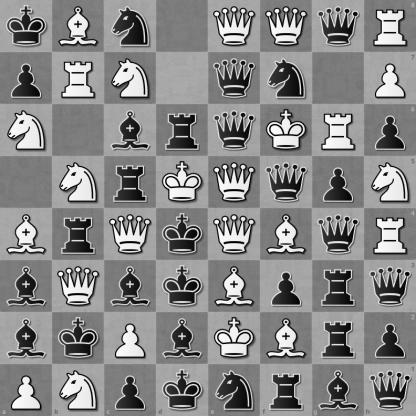B: (1, 209, 52, 260), (53, 1, 104, 52), (209, 261, 260, 312), (261, 209, 312, 260), (261, 313, 312, 364)
K: (157, 157, 208, 208), (209, 313, 260, 364), (261, 105, 312, 156)
N: (364, 156, 416, 209), (52, 364, 104, 416), (1, 105, 52, 156), (53, 157, 104, 208), (105, 53, 156, 104)
P: (0, 364, 52, 416), (364, 52, 416, 104), (105, 313, 156, 364)
Q: (53, 261, 104, 312), (105, 209, 156, 260), (209, 1, 260, 52), (209, 157, 260, 208), (209, 209, 260, 260), (261, 1, 312, 52)
R: (364, 0, 416, 52), (364, 209, 416, 260), (53, 53, 104, 104), (313, 105, 364, 156)
b: (312, 364, 364, 416), (1, 261, 52, 312), (1, 313, 52, 364), (105, 105, 156, 156), (105, 261, 156, 312), (157, 313, 208, 364)
board: (0, 0, 415, 415)
k: (156, 364, 209, 416), (1, 1, 52, 52), (53, 313, 104, 364), (157, 209, 208, 260), (157, 261, 208, 312)
n: (209, 364, 260, 416), (105, 1, 156, 52), (261, 53, 312, 104)
p: (104, 364, 156, 416), (364, 104, 416, 156), (364, 312, 416, 364), (1, 53, 52, 104), (261, 261, 312, 312), (313, 157, 364, 208)
q: (364, 260, 416, 312), (364, 364, 416, 416), (209, 53, 260, 104), (209, 105, 260, 156), (261, 157, 312, 208), (313, 1, 364, 52), (313, 209, 364, 260)
r: (260, 364, 312, 416), (53, 209, 104, 260), (105, 157, 156, 208), (157, 105, 208, 156), (313, 261, 364, 312), (313, 313, 364, 364)
